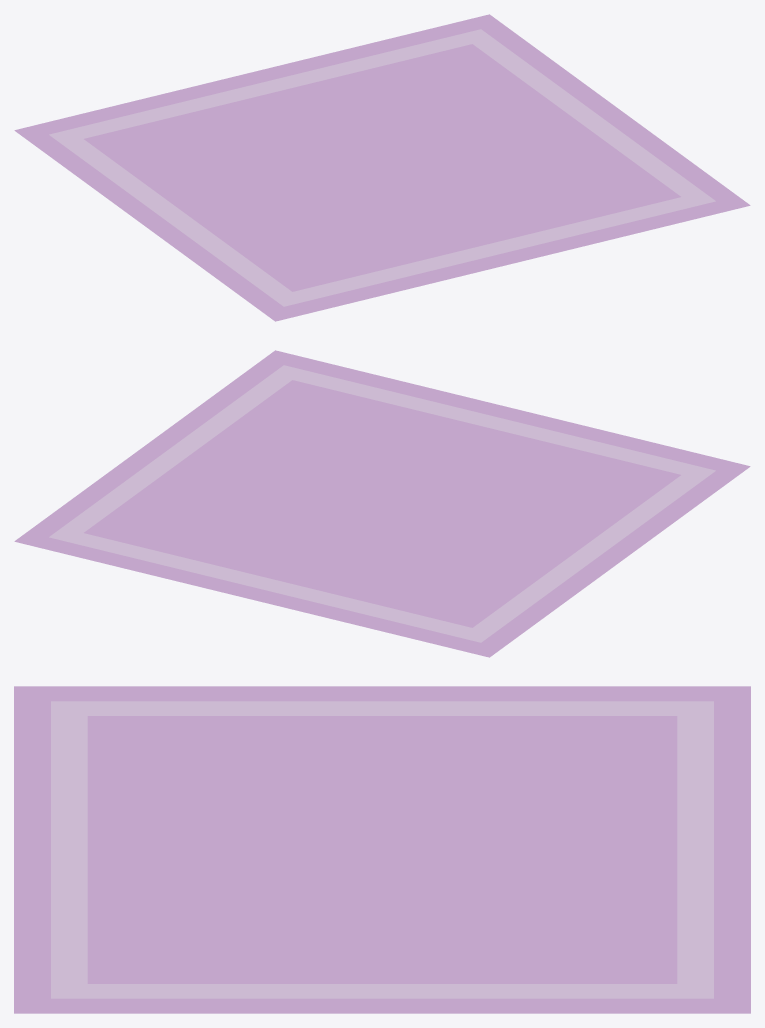
Rendered from Alfombra05.fbx.
3 views of the same model, one above another, from view 1: azimuth 30°, elevation 25°; view 2: azimuth 150°, elevation 25°; view 3: azimuth 270°, elevation 25° (orthographic). The views are drawn at different scales.
Visible parts, largest first — view 1: Alfombra05; view 2: Alfombra05; view 3: Alfombra05.
Part boxes in pixels (box(x1,y1,x2,y2)): Alfombra05: box(14, 14, 750, 321); Alfombra05: box(14, 350, 750, 657); Alfombra05: box(14, 686, 750, 1013).
Bounding box in the file's own units: 265 × 0 × 252.
